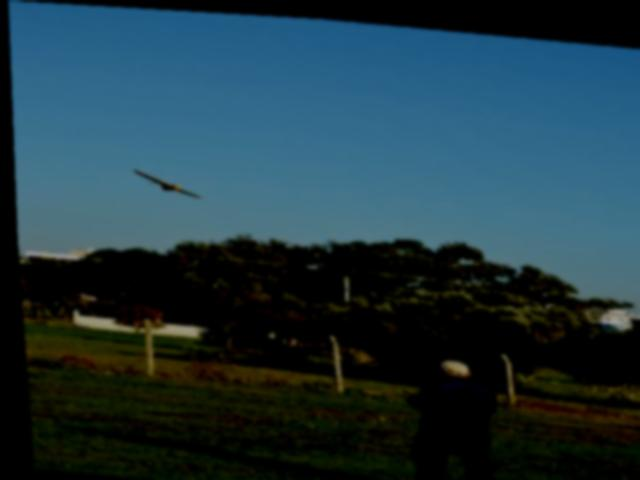iha: (130, 169, 200, 196)
